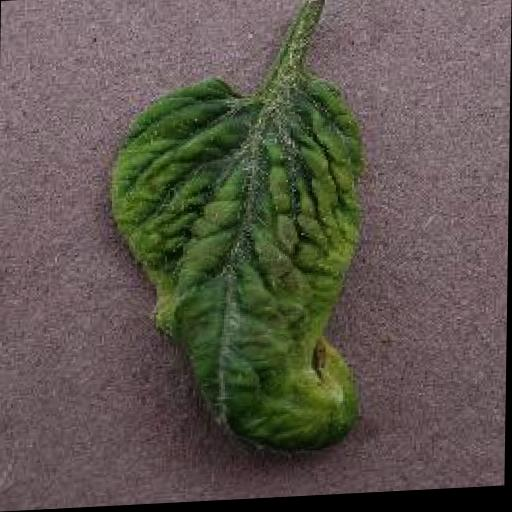Yellow Leaf Curl Virus: (104, 75, 370, 466)
